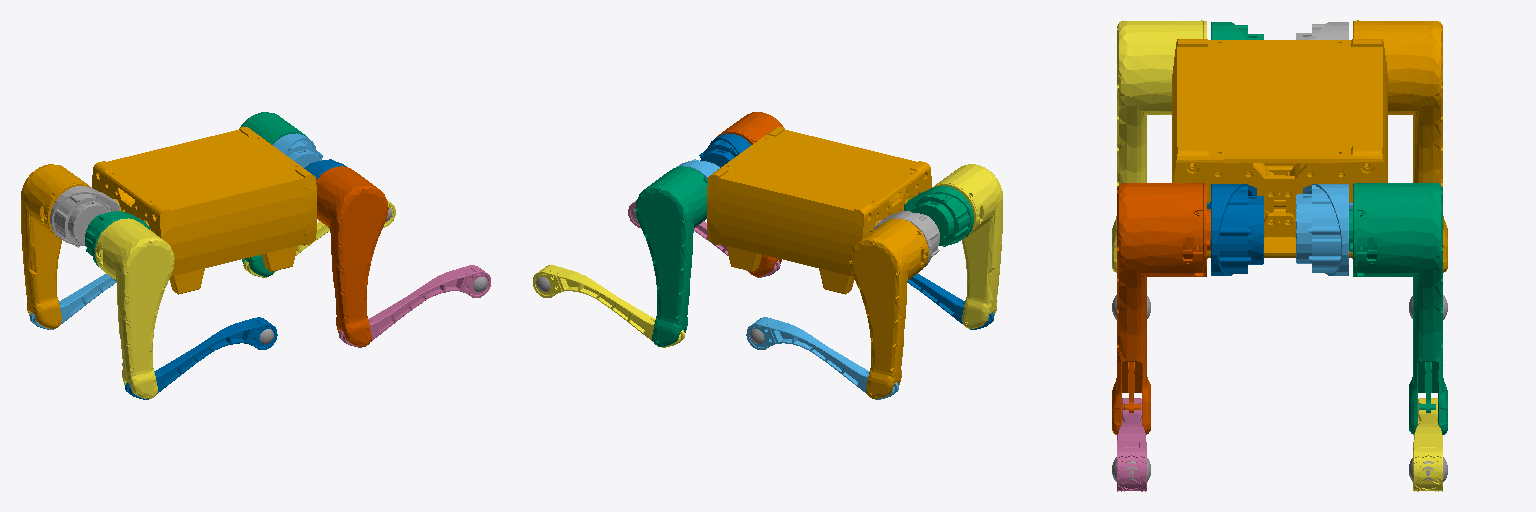
The robot description file, URDF, robot "d2":
<?xml version='1.0' encoding='UTF-8'?>
<robot name="d2">
  <material name="d2_foot_light_grey">
    <color rgba="0.65 0.65 0.65 1.0"/>
  </material>
  <link name="base">
    <inertial>
      <origin xyz="-1.6309502e-05 -0.00021491561 0.011210241" rpy="0 -0 1.570796327"/>
      <mass value="5.425"/>
      <inertia ixx="0.032284597065" iyy="0.067298521395" izz="0.083640743655" ixy="3.2120811975e-05" ixz="-0.0002980878439" iyz="7.335541346e-06"/>
    </inertial>
    <visual>
      <origin xyz="-0.19430404 0 -0.04550404" rpy="0 -0 1.570796327"/>
      <geometry>
        <mesh filename="../meshes/base.stl" scale="0.001 0.001 0.001"/>
      </geometry>
    </visual>
    <collision name="base_body">
      <origin xyz="0 0 0.0175" rpy="0 0 1.5707963267949"/>
      <geometry>
        <box size="0.2 0.276 0.114"/>
      </geometry>
    </collision>
  </link>
  <link name="FL_hip">
    <inertial>
      <origin xyz="0.0015196724 4.833753e-07 0.051967448" rpy="0 0 0"/>
      <mass value="0.7737"/>
      <inertia ixx="0.000789550304901" iyy="0.000615716498395" izz="0.000503939735383" ixy="7.86664531542e-08" ixz="-3.57696895633e-06" iyz="-2.6772601291e-07"/>
    </inertial>
    <visual>
      <origin xyz="0.0465 0.06300404 -0.32870404" rpy="-1.5707963 0 -3.1415927"/>
      <geometry>
        <mesh filename="../meshes/FL_hip.stl" scale="0.001 0.001 0.001"/>
      </geometry>
    </visual>
  </link>
  <link name="FL_thigh">
    <inertial>
      <origin xyz="-0.026637253 -0.0023032529 -0.021358243" rpy="0 0 0"/>
      <mass value="1.6266"/>
      <inertia ixx="0.00198489331341" iyy="0.00774401308113" izz="0.00744197040021" ixy="-0.000365540074419" ixz="0.00132925707128" iyz="0.000117630462008"/>
    </inertial>
    <visual>
      <origin xyz="-0.06300404 -0.38770404 -0.14" rpy="0 -1.5707963 3.1415927"/>
      <geometry>
        <mesh filename="../meshes/FL_thigh.stl" scale="0.001 0.001 0.001"/>
      </geometry>
    </visual>
    <collision name="FL_thigh_motor">
      <origin xyz="0 0 0.0095" rpy="0 0 0"/>
      <geometry>
        <cylinder radius="0.046" length="0.04"/>
      </geometry>
    </collision>
    <collision name="FL_thigh_bar">
      <origin xyz="-0.1065 -0.008 0.0095" rpy="0 0 0"/>
      <geometry>
        <box size="0.213 0.034 0.0245"/>
      </geometry>
    </collision>
  </link>
  <link name="FL_calf">
    <inertial>
      <origin xyz="-0.12717648355 0.00521949902174 -0.0176048663043" rpy="0 0 0"/>
      <mass value="0.2013"/>
      <inertia ixx="4.04061405053e-05" iyy="0.00165942416863" izz="0.00167901488252" ixy="9.01613095303e-06" ixz="-4.33848830629e-08" iyz="-6.08571669086e-09"/>
    </inertial>
    <visual>
      <origin xyz="0.14999596 -0.38770404 -0.1671" rpy="0 -1.5707963 3.1415927"/>
      <geometry>
        <mesh filename="../meshes/FL_calf.stl" scale="0.001 0.001 0.001"/>
      </geometry>
    </visual>
    <collision name="FL_calf_upper">
      <origin xyz="-0.06 0.01 -0.0176" rpy="0 1.57079632679 -0.2"/>
      <geometry>
        <cylinder radius="0.013" length="0.12"/>
      </geometry>
    </collision>
    <collision name="FL_calf_middle">
      <origin xyz="-0.148 0.02 -0.0176" rpy="0 1.57079632679 0.05"/>
      <geometry>
        <cylinder radius="0.011" length="0.065"/>
      </geometry>
    </collision>
    <collision name="FL_calf_lower">
      <origin xyz="-0.187450218723 0.00801333062522 -0.0176" rpy="0 1.57079632679 0.53"/>
      <geometry>
        <cylinder radius="0.0155" length="0.03"/>
      </geometry>
    </collision>
  </link>
  <link name="FR_hip">
    <inertial>
      <origin xyz="-0.001519672 4.8311484e-07 0.049201279" rpy="0 0 0"/>
      <mass value="0.7737"/>
      <inertia ixx="0.000802104363065" iyy="0.000628270536921" izz="0.00050393975502" ixy="-7.86719417113e-08" ixz="8.64719992431e-06" iyz="-2.57832569623e-07"/>
    </inertial>
    <visual>
      <origin xyz="-0.0465 0.06300404 -0.33310404" rpy="-1.5707963 0 -3.1415927"/>
      <geometry>
        <mesh filename="../meshes/FR_hip.stl" scale="0.001 0.001 0.001"/>
      </geometry>
    </visual>
  </link>
  <link name="FR_thigh">
    <inertial>
      <origin xyz="-0.026606968 -0.0022904796 0.011870993" rpy="0 0 0"/>
      <mass value="1.6266"/>
      <inertia ixx="0.00198424401956" iyy="0.00773829148759" izz="0.00743575757346" ixy="-0.000360033203292" ixz="-0.00133063900821" iyz="-0.000117206738317"/>
    </inertial>
    <visual>
      <origin xyz="-0.06300404 -0.38770404 0.1305" rpy="0 -1.5707963 3.1415927"/>
      <geometry>
        <mesh filename="../meshes/FR_thigh.stl" scale="0.001 0.001 0.001"/>
      </geometry>
    </visual>
    <collision name="FR_thigh_motor">
      <origin xyz="0 0 -0.019" rpy="0 0 0"/>
      <geometry>
        <cylinder radius="0.046" length="0.04"/>
      </geometry>
    </collision>
    <collision name="FR_thigh_bar">
      <origin xyz="-0.1065 -0.008 -0.019" rpy="0 0 0"/>
      <geometry>
        <box size="0.213 0.034 0.0245"/>
      </geometry>
    </collision>
  </link>
  <link name="FR_calf">
    <inertial>
      <origin xyz="-0.12718174442 0.00523314913043 0.017605925" rpy="0 0 0"/>
      <mass value="0.2013"/>
      <inertia ixx="4.03799815543e-05" iyy="0.00165716715278" izz="0.00167674235336" ixy="9.06056410876e-06" ixz="5.07731453123e-08" iyz="7.06052557306e-09"/>
    </inertial>
    <visual>
      <origin xyz="0.14999596 -0.38770404 0.1671" rpy="0 -1.5707963 3.1415927"/>
      <geometry>
        <mesh filename="../meshes/FR_calf.stl" scale="0.001 0.001 0.001"/>
      </geometry>
    </visual>
    <collision name="FR_calf_upper">
      <origin xyz="-0.06 0.01 0.0176" rpy="0 1.57079632679 -0.2"/>
      <geometry>
        <cylinder radius="0.013" length="0.12"/>
      </geometry>
    </collision>
    <collision name="FR_calf_middle">
      <origin xyz="-0.148 0.02 0.0176" rpy="0 1.57079632679 0.05"/>
      <geometry>
        <cylinder radius="0.011" length="0.065"/>
      </geometry>
    </collision>
    <collision name="FR_calf_lower">
      <origin xyz="-0.187450218723 0.00801333062522 0.0176" rpy="0 1.57079632679 0.53"/>
      <geometry>
        <cylinder radius="0.0155" length="0.03"/>
      </geometry>
    </collision>
  </link>
  <link name="RL_hip">
    <inertial>
      <origin xyz="0.001519672 -1.8739327e-06 -0.053201274" rpy="0 0 0"/>
      <mass value="0.7737"/>
      <inertia ixx="0.000802104510343" iyy="0.000628270674381" izz="0.000503939764839" ixy="-6.298230131e-08" ixz="8.64720502995e-06" iyz="-2.71580079674e-07"/>
    </inertial>
    <visual>
      <origin xyz="0.0465 0.06300404 -0.05950404" rpy="-1.5707963 0 -3.1415927"/>
      <geometry>
        <mesh filename="../meshes/RL_hip.stl" scale="0.001 0.001 0.001"/>
      </geometry>
    </visual>
  </link>
  <link name="RL_thigh">
    <inertial>
      <origin xyz="-0.026693037 -0.0023224849 -0.011845646" rpy="0 0 0"/>
      <mass value="1.6266"/>
      <inertia ixx="0.00198488691919" iyy="0.00775758430974" izz="0.0074547571589" ixy="-0.000363529002269" ixz="0.00133229735495" iyz="0.000115715841629"/>
    </inertial>
    <visual>
      <origin xyz="-0.06300404 -0.00090403976 -0.1305" rpy="0 -1.5707963 3.1415927"/>
      <geometry>
        <mesh filename="../meshes/RL_thigh.stl" scale="0.001 0.001 0.001"/>
      </geometry>
    </visual>
    <collision name="RL_thigh_motor">
      <origin xyz="0 0 0.019" rpy="0 0 0"/>
      <geometry>
        <cylinder radius="0.046" length="0.04"/>
      </geometry>
    </collision>
    <collision name="RL_thigh_bar">
      <origin xyz="-0.1065 -0.008 0.019" rpy="0 0 0"/>
      <geometry>
        <box size="0.213 0.034 0.0245"/>
      </geometry>
    </collision>
  </link>
  <link name="RL_calf">
    <inertial>
      <origin xyz="-0.12717648355 0.00521949684783 -0.0176048673913" rpy="0 0 0"/>
      <mass value="0.2013"/>
      <inertia ixx="4.04061277423e-05" iyy="0.00165942425615" izz="0.00167901497041" ixy="9.01616339559e-06" ixz="-4.33815834794e-08" iyz="-6.0853019212e-09"/>
    </inertial>
    <visual>
      <origin xyz="0.14999596 -0.00090403976 -0.1671" rpy="0 -1.5707963 3.1415927"/>
      <geometry>
        <mesh filename="../meshes/RL_calf.stl" scale="0.001 0.001 0.001"/>
      </geometry>
    </visual>
    <collision name="RL_calf_upper">
      <origin xyz="-0.06 0.01 -0.0176" rpy="0 1.57079632679 -0.2"/>
      <geometry>
        <cylinder radius="0.013" length="0.12"/>
      </geometry>
    </collision>
    <collision name="RL_calf_middle">
      <origin xyz="-0.148 0.02 -0.0176" rpy="0 1.57079632679 0.05"/>
      <geometry>
        <cylinder radius="0.011" length="0.065"/>
      </geometry>
    </collision>
    <collision name="RL_calf_lower">
      <origin xyz="-0.187450218723 0.00801333062522 -0.0176" rpy="0 1.57079632679 0.53"/>
      <geometry>
        <cylinder radius="0.0155" length="0.03"/>
      </geometry>
    </collision>
  </link>
  <link name="RR_hip">
    <inertial>
      <origin xyz="-0.001519672 -1.8739268e-06 -0.051967444" rpy="0 0 0"/>
      <mass value="0.7737"/>
      <inertia ixx="0.000789550432542" iyy="0.00061571659658" izz="0.000503939764839" ixy="6.29824073501e-08" ixz="-3.57696885815e-06" iyz="-2.64669622991e-07"/>
    </inertial>
    <visual>
      <origin xyz="-0.0465 0.06300404 -0.05990404" rpy="-1.5707963 0 -3.1415927"/>
      <geometry>
        <mesh filename="../meshes/RR_hip.stl" scale="0.001 0.001 0.001"/>
      </geometry>
    </visual>
  </link>
  <link name="RR_thigh">
    <inertial>
      <origin xyz="-0.025597479 -0.0023392201 0.012375945" rpy="0 0 0"/>
      <mass value="1.6266"/>
      <inertia ixx="0.0019897216231" iyy="0.00761930984822" izz="0.00733650154403" ixy="-0.000376771545497" ixz="-0.00130081243663" iyz="-0.000118759625292"/>
    </inertial>
    <visual>
      <origin xyz="-0.06300404 -0.00090403975 0.1305" rpy="0 -1.5707963 3.1415927"/>
      <geometry>
        <mesh filename="../meshes/RR_thigh.stl" scale="0.001 0.001 0.001"/>
      </geometry>
    </visual>
    <collision name="RR_thigh_motor">
      <origin xyz="0 0 -0.019" rpy="0 0 0"/>
      <geometry>
        <cylinder radius="0.046" length="0.04"/>
      </geometry>
    </collision>
    <collision name="RR_thigh_bar">
      <origin xyz="-0.1065 -0.008 -0.019" rpy="0 0 0"/>
      <geometry>
        <box size="0.213 0.034 0.0245"/>
      </geometry>
    </collision>
  </link>
  <link name="RR_calf">
    <inertial>
      <origin xyz="-0.12718174442 0.0052331476087 0.017605926087" rpy="0 0 0"/>
      <mass value="0.2013"/>
      <inertia ixx="4.03799704328e-05" iyy="0.00165716715278" izz="0.00167674235361" ixy="9.06060526831e-06" ixz="5.07691060781e-08" iyz="7.06055191452e-09"/>
    </inertial>
    <visual>
      <origin xyz="0.14999596 -0.00090403975 0.1671" rpy="0 -1.5707963 3.1415927"/>
      <geometry>
        <mesh filename="../meshes/RR_calf.stl" scale="0.001 0.001 0.001"/>
      </geometry>
    </visual>
    <collision name="RR_calf_upper">
      <origin xyz="-0.06 0.01 0.0176" rpy="0 1.57079632679 -0.2"/>
      <geometry>
        <cylinder radius="0.013" length="0.12"/>
      </geometry>
    </collision>
    <collision name="RR_calf_middle">
      <origin xyz="-0.148 0.02 0.0176" rpy="0 1.57079632679 0.05"/>
      <geometry>
        <cylinder radius="0.011" length="0.065"/>
      </geometry>
    </collision>
    <collision name="RR_calf_lower">
      <origin xyz="-0.187450218723 0.00801333062522 0.0176" rpy="0 1.57079632679 0.53"/>
      <geometry>
        <cylinder radius="0.0155" length="0.03"/>
      </geometry>
    </collision>
  </link>
  <joint name="FL_hip_joint" type="revolute">
    <origin xyz="0.1344 0.0465 0.0175" rpy="-1.5707963 -0 -1.57079628"/>
    <parent link="base"/>
    <child link="FL_hip"/>
    <axis xyz="0 0 1"/>
    <limit lower="-1.05" upper="1.05" effort="36" velocity="50.265482"/>
    <dynamics damping="0.001" friction="0.01"/>
  </joint>
  <joint name="FL_thigh_joint" type="revolute">
    <origin xyz="-0.0935 0 0.059" rpy="1.5707963 0 -1.5707963"/>
    <parent link="FL_hip"/>
    <child link="FL_thigh"/>
    <axis xyz="0 0 1"/>
    <limit lower="-1.57" upper="3.49" effort="36" velocity="50.265482"/>
    <dynamics damping="0.001" friction="0.01"/>
  </joint>
  <joint name="FL_calf_joint" type="revolute">
    <origin xyz="-0.213 0 0.0271" rpy="0 0 0"/>
    <parent link="FL_thigh"/>
    <child link="FL_calf"/>
    <axis xyz="0 0 1"/>
    <limit lower="-2.72" upper="-0.84" effort="36" velocity="50.265482"/>
    <dynamics damping="0.001" friction="0.01"/>
  </joint>
  <joint name="FR_hip_joint" type="revolute">
    <origin xyz="0.1388 -0.0465 0.0175" rpy="-1.5707963 -0 -1.57079628"/>
    <parent link="base"/>
    <child link="FR_hip"/>
    <axis xyz="0 0 1"/>
    <limit lower="-1.05" upper="1.05" effort="36" velocity="50.265482"/>
    <dynamics damping="0.001" friction="0.01"/>
  </joint>
  <joint name="FR_thigh_joint" type="revolute">
    <origin xyz="0.084 0 0.0546" rpy="1.5707963 0 -1.5707963"/>
    <parent link="FR_hip"/>
    <child link="FR_thigh"/>
    <axis xyz="0 0 1"/>
    <limit lower="-1.57" upper="3.49" effort="36" velocity="50.265482"/>
    <dynamics damping="0.001" friction="0.01"/>
  </joint>
  <joint name="FR_calf_joint" type="revolute">
    <origin xyz="-0.213 0 -0.0366" rpy="0 0 0"/>
    <parent link="FR_thigh"/>
    <child link="FR_calf"/>
    <axis xyz="0 0 1"/>
    <limit lower="-2.72" upper="-0.84" effort="36" velocity="50.265482"/>
    <dynamics damping="0.001" friction="0.01"/>
  </joint>
  <joint name="RL_hip_joint" type="revolute">
    <origin xyz="-0.1348 0.0465 0.0175" rpy="-1.5707963 -0 -1.57079628"/>
    <parent link="base"/>
    <child link="RL_hip"/>
    <axis xyz="0 0 1"/>
    <limit lower="-1.05" upper="1.05" effort="36" velocity="50.265482"/>
    <dynamics damping="0.001" friction="0.01"/>
  </joint>
  <joint name="RL_thigh_joint" type="revolute">
    <origin xyz="-0.084 0 -0.0586" rpy="1.5707963 0 -1.5707963"/>
    <parent link="RL_hip"/>
    <child link="RL_thigh"/>
    <axis xyz="0 0 1"/>
    <limit lower="-0.52" upper="4.54" effort="36" velocity="50.265482"/>
    <dynamics damping="0.001" friction="0.01"/>
  </joint>
  <joint name="RL_calf_joint" type="revolute">
    <origin xyz="-0.213 0 0.0366" rpy="0 0 0"/>
    <parent link="RL_thigh"/>
    <child link="RL_calf"/>
    <axis xyz="0 0 1"/>
    <limit lower="-2.72" upper="-0.84" effort="36" velocity="50.265482"/>
    <dynamics damping="0.001" friction="0.01"/>
  </joint>
  <joint name="RR_hip_joint" type="revolute">
    <origin xyz="-0.1344 -0.0465 0.0175" rpy="-1.5707963 -0 -1.57079628"/>
    <parent link="base"/>
    <child link="RR_hip"/>
    <axis xyz="0 0 1"/>
    <limit lower="-1.05" upper="1.05" effort="36" velocity="50.265482"/>
    <dynamics damping="0.001" friction="0.01"/>
  </joint>
  <joint name="RR_thigh_joint" type="revolute">
    <origin xyz="0.084 0 -0.059" rpy="1.5707963 0 -1.5707963"/>
    <parent link="RR_hip"/>
    <child link="RR_thigh"/>
    <axis xyz="0 0 1"/>
    <limit lower="-0.52" upper="4.54" effort="36" velocity="50.265482"/>
    <dynamics damping="0.001" friction="0.01"/>
  </joint>
  <joint name="RR_calf_joint" type="revolute">
    <origin xyz="-0.213 0 -0.0366" rpy="0 0 0"/>
    <parent link="RR_thigh"/>
    <child link="RR_calf"/>
    <axis xyz="0 0 1"/>
    <limit lower="-2.72" upper="-0.84" effort="36" velocity="50.265482"/>
    <dynamics damping="0.001" friction="0.01"/>
  </joint>
  <link name="FL_foot">
    <inertial>
      <origin xyz="0 0 0" rpy="0 0 0"/>
      <mass value="0.0693"/>
      <inertia ixx="1.1088e-05" iyy="1.1088e-05" izz="1.1088e-05" ixy="0" ixz="0" iyz="0"/>
    </inertial>
    <visual name="FL_foot_visual">
      <origin xyz="0 0 0" rpy="0 0 0"/>
      <geometry>
        <sphere radius="0.02"/>
      </geometry>
      <material name="d2_foot_light_grey"/>
    </visual>
    <collision name="FL_foot_collision">
      <origin xyz="0.00247568917000002 0 0" rpy="0 0 0"/>
      <geometry>
        <sphere radius="0.022"/>
      </geometry>
    </collision>
  </link>
  <joint name="FL_foot_joint" type="fixed" dont_collapse="true">
    <parent link="FL_calf"/>
    <child link="FL_foot"/>
    <origin xyz="-0.21547568917 0 -0.0176" rpy="0 0 0"/>
  </joint>
  <link name="FR_foot">
    <inertial>
      <origin xyz="0 0 0" rpy="0 0 0"/>
      <mass value="0.0693"/>
      <inertia ixx="1.1088e-05" iyy="1.1088e-05" izz="1.1088e-05" ixy="0" ixz="0" iyz="0"/>
    </inertial>
    <visual name="FR_foot_visual">
      <origin xyz="0 0 0" rpy="0 0 0"/>
      <geometry>
        <sphere radius="0.02"/>
      </geometry>
      <material name="d2_foot_light_grey"/>
    </visual>
    <collision name="FR_foot_collision">
      <origin xyz="0.00247568917000002 0 0" rpy="0 0 0"/>
      <geometry>
        <sphere radius="0.022"/>
      </geometry>
    </collision>
  </link>
  <joint name="FR_foot_joint" type="fixed" dont_collapse="true">
    <parent link="FR_calf"/>
    <child link="FR_foot"/>
    <origin xyz="-0.21547568917 0 0.0176" rpy="0 0 0"/>
  </joint>
  <link name="RL_foot">
    <inertial>
      <origin xyz="0 0 0" rpy="0 0 0"/>
      <mass value="0.0693"/>
      <inertia ixx="1.1088e-05" iyy="1.1088e-05" izz="1.1088e-05" ixy="0" ixz="0" iyz="0"/>
    </inertial>
    <visual name="RL_foot_visual">
      <origin xyz="0 0 0" rpy="0 0 0"/>
      <geometry>
        <sphere radius="0.02"/>
      </geometry>
      <material name="d2_foot_light_grey"/>
    </visual>
    <collision name="RL_foot_collision">
      <origin xyz="0.00247568917000002 0 0" rpy="0 0 0"/>
      <geometry>
        <sphere radius="0.022"/>
      </geometry>
    </collision>
  </link>
  <joint name="RL_foot_joint" type="fixed" dont_collapse="true">
    <parent link="RL_calf"/>
    <child link="RL_foot"/>
    <origin xyz="-0.21547568917 0 -0.0176" rpy="0 0 0"/>
  </joint>
  <link name="RR_foot">
    <inertial>
      <origin xyz="0 0 0" rpy="0 0 0"/>
      <mass value="0.0693"/>
      <inertia ixx="1.1088e-05" iyy="1.1088e-05" izz="1.1088e-05" ixy="0" ixz="0" iyz="0"/>
    </inertial>
    <visual name="RR_foot_visual">
      <origin xyz="0 0 0" rpy="0 0 0"/>
      <geometry>
        <sphere radius="0.02"/>
      </geometry>
      <material name="d2_foot_light_grey"/>
    </visual>
    <collision name="RR_foot_collision">
      <origin xyz="0.00247568917000002 0 0" rpy="0 0 0"/>
      <geometry>
        <sphere radius="0.022"/>
      </geometry>
    </collision>
  </link>
  <joint name="RR_foot_joint" type="fixed" dont_collapse="true">
    <parent link="RR_calf"/>
    <child link="RR_foot"/>
    <origin xyz="-0.21547568917 0 0.0176" rpy="0 0 0"/>
  </joint>
</robot>

--- Render facts (derived) ---
The picture shows the robot from 3 angles, left to right: view 1: azimuth 30°, elevation 25°; view 2: azimuth 150°, elevation 25°; view 3: azimuth 270°, elevation 25°; orthographic projection.
Robot: d2 — 17 links, 16 joints (12 revolute, 4 fixed); root link base; default pose: all joints at 0 but 4 set to mid-range because 0 is outside their limits (FL_calf_joint = -1.78, FR_calf_joint = -1.78, RL_calf_joint = -1.78, RR_calf_joint = -1.78).
Visible links, largest first — view 1: base, RR_thigh, FR_thigh, RL_thigh, RR_calf, FR_calf, RL_hip, FL_thigh, RL_calf, FL_hip, RR_hip; view 2: base, RL_thigh, FL_thigh, RR_thigh, RL_calf, FL_calf, RR_hip, FR_thigh, RR_calf, FR_hip, RL_hip; view 3: base, FR_thigh, FL_thigh, RR_thigh, RL_thigh, FR_hip, FL_hip, FL_calf, FR_calf, RL_hip, RR_hip.
Boxes of the visible links, bbox=[...] form: base: bbox=[92, 127, 316, 294]; RR_thigh: bbox=[95, 218, 174, 398]; FR_thigh: bbox=[316, 166, 388, 346]; RL_thigh: bbox=[21, 164, 91, 328]; RR_calf: bbox=[125, 317, 277, 399]; FR_calf: bbox=[339, 265, 490, 347]; RL_hip: bbox=[50, 186, 119, 247]; FL_thigh: bbox=[240, 112, 307, 276]; RL_calf: bbox=[30, 274, 116, 329]; FL_hip: bbox=[273, 133, 322, 167]; RR_hip: bbox=[85, 211, 149, 266]; base: bbox=[707, 127, 931, 294]; RL_thigh: bbox=[849, 218, 928, 398]; FL_thigh: bbox=[635, 166, 707, 346]; RR_thigh: bbox=[932, 164, 1002, 328]; RL_calf: bbox=[746, 317, 898, 399]; FL_calf: bbox=[533, 265, 684, 347]; RR_hip: bbox=[904, 186, 973, 246]; FR_thigh: bbox=[716, 112, 783, 276]; RR_calf: bbox=[907, 274, 993, 329]; FR_hip: bbox=[699, 133, 750, 167]; RL_hip: bbox=[874, 211, 939, 266]; base: bbox=[1172, 39, 1387, 258]; FR_thigh: bbox=[1112, 183, 1210, 434]; FL_thigh: bbox=[1349, 183, 1447, 434]; RR_thigh: bbox=[1112, 20, 1206, 272]; RL_thigh: bbox=[1353, 20, 1447, 272]; FR_hip: bbox=[1207, 184, 1263, 275]; FL_hip: bbox=[1296, 184, 1352, 275]; FL_calf: bbox=[1413, 398, 1442, 491]; FR_calf: bbox=[1117, 398, 1146, 491]; RL_hip: bbox=[1296, 22, 1348, 39]; RR_hip: bbox=[1211, 22, 1263, 39].
Bounding box of the posed robot: 0.6654 × 0.339 × 0.2903 m (x, y, z).
13 mesh visuals loaded from 13 distinct referenced files (13 binary STL).
